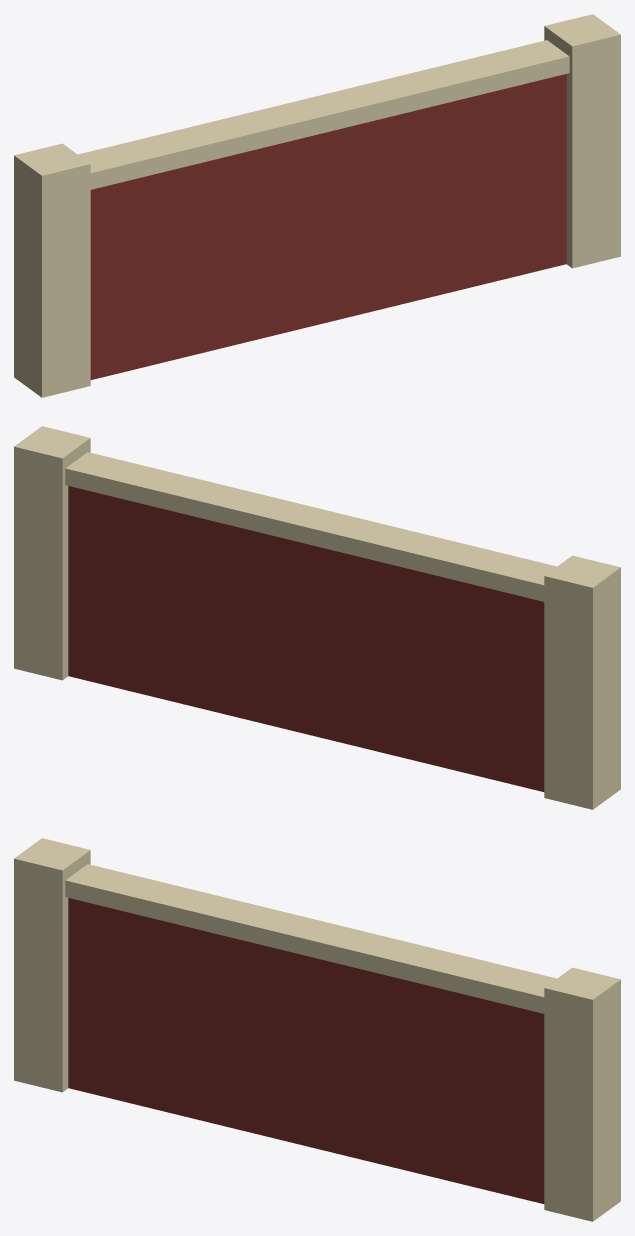
The model's file is wall_brick_6m.glb.
3 views of the same model, one above another, from view 1: azimuth 30°, elevation 25°; view 2: azimuth 150°, elevation 25°; view 3: azimuth 330°, elevation 25° (orthographic).
Visible parts, largest first — view 1: wall_brick_6m; view 2: wall_brick_6m; view 3: wall_brick_6m.
Part boxes in pixels (x1=…): wall_brick_6m: x1=14, y1=14, x2=620, y2=397; wall_brick_6m: x1=14, y1=426, x2=620, y2=809; wall_brick_6m: x1=14, y1=838, x2=620, y2=1221.
Bounding box in the file's own units: 6.55 × 2.4 × 0.55.
